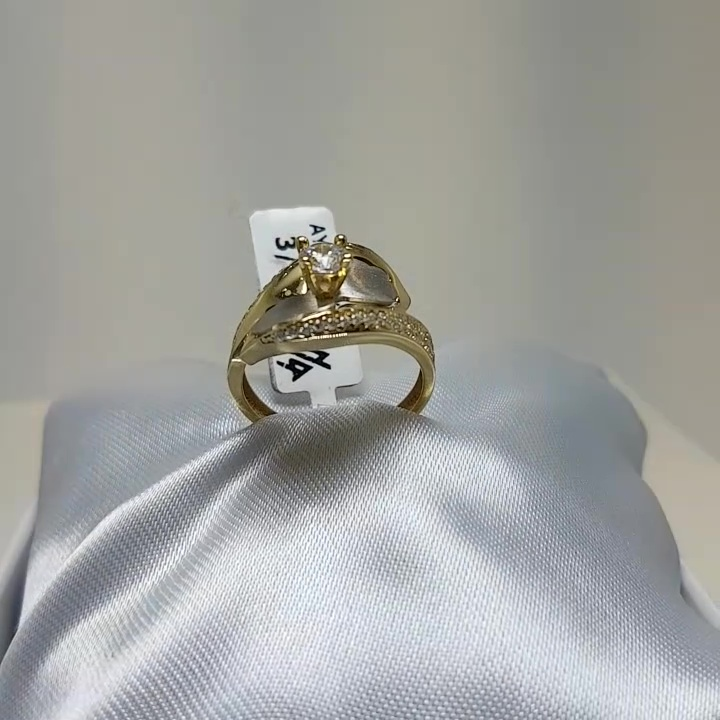Ring 6: (171, 203, 454, 457)
